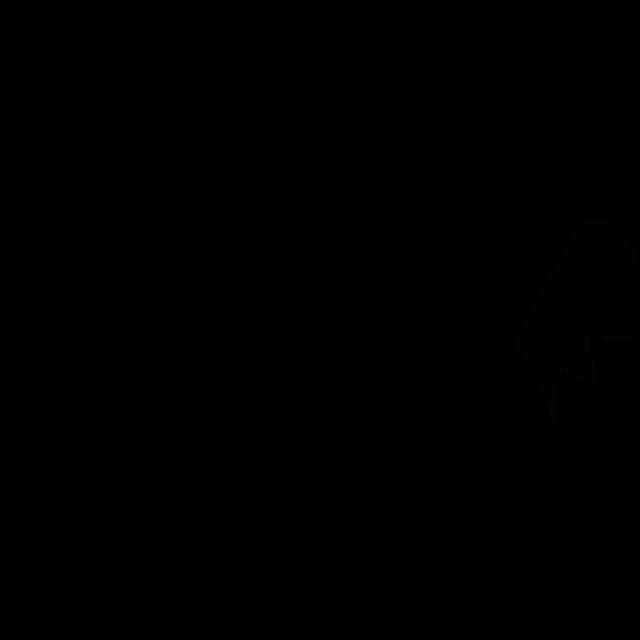cardboard: (516, 218, 640, 426)
